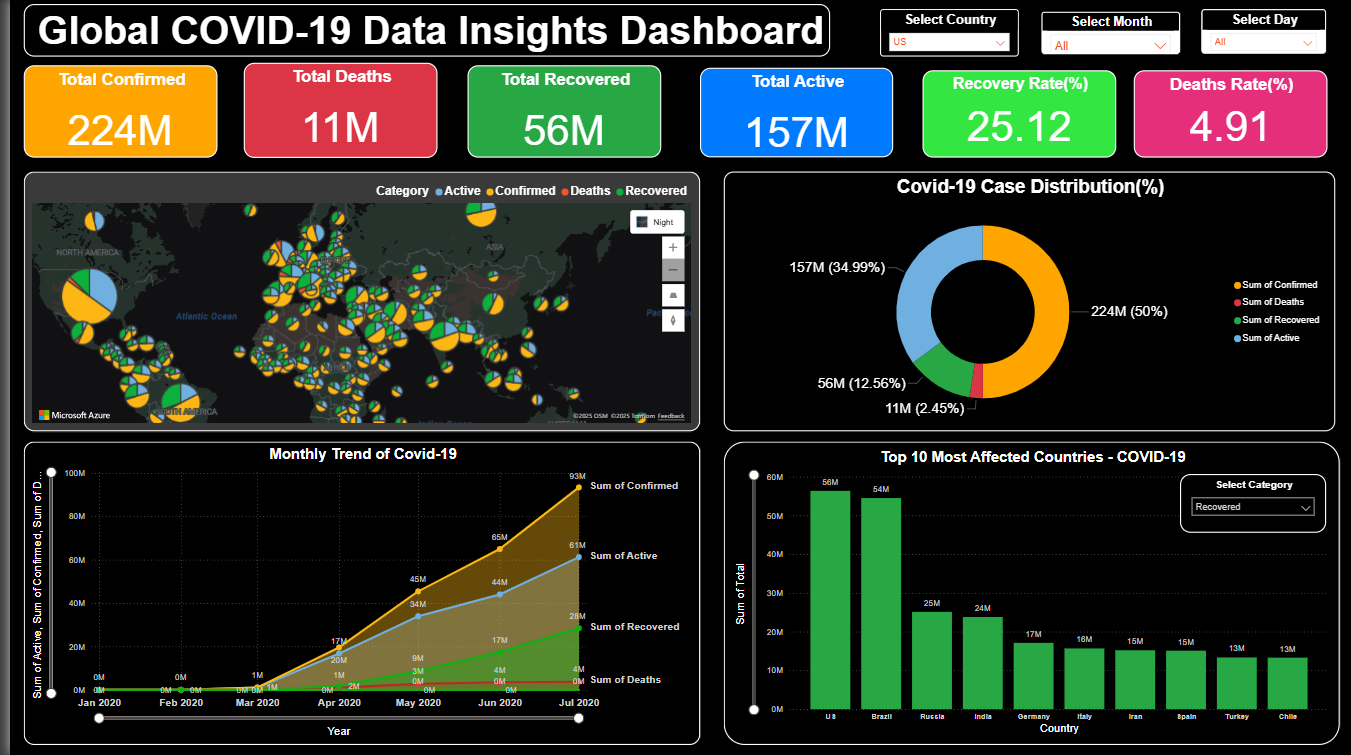

The page's visual inventory and layout, read from the dashboard file:
{"tool":"powerbi","page":{"name":"Page 1","canvas":[1920,1080],"ordinal":0},"visuals":[{"type":"slicer","title":"Select Country","fields":{"Values":["samarth_csv.Country/Region"]},"box":[1242.9,14.3,198.2,67.9],"z":0},{"type":"slicer","title":" Select Month","fields":{"Values":["samarth_csv.MonthNumber"]},"box":[1476.8,14.3,198.2,67.9],"z":1000},{"type":"cardVisual","title":" Total Confirmed","fields":{"Data":["Sum(samarth_csv.Confirmed)"]},"box":[19.6,94.6,276.8,132.1],"z":2000},{"type":"cardVisual","title":"Total Deaths","fields":{"Data":["Sum(samarth_csv.Deaths)"]},"box":[333.9,91.1,276.8,135.7],"z":3000},{"type":"cardVisual","title":"Total Active","fields":{"Data":["Sum(samarth_csv.Active)"]},"box":[985.7,98.2,276,128],"z":4000},{"type":"cardVisual","title":"Total Recovered","fields":{"Data":["Sum(samarth_csv.Recovered)"]},"box":[653.6,94.6,276.8,132.1],"z":5000},{"type":"donutChart","title":"Covid-19 Case Distribution(%)","fields":{"Y":["Sum(samarth_csv.Confirmed)","Sum(samarth_csv.Deaths)","Sum(samarth_csv.Recovered)","Sum(samarth_csv.Total Active)"]},"box":[1019.6,246.4,873.2,371.4],"z":6000},{"type":"slicer","title":" Select Day","fields":{"Values":["samarth_csv.Date.Variation.Date Hierarchy.Day"]},"box":[1719.7,14.3,160.7,67.9],"z":7000},{"type":"card","title":"Recovery Rate(%)","fields":{"Values":["samarth_csv.Recovery Rate (%)"]},"box":[1303.6,101.8,276.8,125],"z":8000},{"type":"card","title":"Deaths Rate(%)","fields":{"Values":["samarth_csv.Deaths Rate (%)"]},"box":[1605.4,101.8,276.8,125],"z":9000},{"type":"columnChart","title":"Top 10 Most Affected Countries - COVID-19","fields":{"Category":["Top10_All_Categories.Country"],"Series":["Top10_All_Categories.Category"],"Y":["Sum(Top10_All_Categories.Total)"]},"box":[1019.6,632.1,880.4,433.9],"z":10000},{"type":"slicer","title":"Select Category","fields":{"Values":["Top10_All_Categories.Category"]},"box":[1671.4,678.6,208.9,83.9],"z":11000},{"type":"lineChart","title":"Monthly Trend of Covid-19","fields":{"Y":["Sum(samarth_csv.Active)","Sum(samarth_csv.Confirmed)","Sum(samarth_csv.Deaths)","Sum(samarth_csv.Recovered)","samarth_csv.Deaths Rate (%)","samarth_csv.Recovery Rate (%)"],"Category":["samarth_csv.Date.Variation.Date Hierarchy.Year","samarth_csv.Date.Variation.Date Hierarchy.Month"]},"box":[19.6,632.1,966.1,433.9],"z":12000},{"type":"azureMap","fields":{"Category":["Covid_Unpivot.Country"],"Size":["Sum(Covid_Unpivot.Total Cases)"],"Series":["Covid_Unpivot.Category"]},"box":[19.6,246.4,966.1,371.4],"z":13000},{"type":"textbox","title":"Global COVID-19 Data Insights Dashboard","box":[19.6,7.1,1151.8,75],"z":14000}]}

Visuals, with their boxes in screenshot pixels (x1, y1, x2, y2), scaled from the page's 1920x1080 canvas onto the 1351x755 screenshot:
"Select Country" slicer: [875,10,1014,57]
" Select Month" slicer: [1039,10,1179,57]
" Total Confirmed" cardVisual: [14,66,209,158]
"Total Deaths" cardVisual: [235,64,430,159]
"Total Active" cardVisual: [694,69,888,158]
"Total Recovered" cardVisual: [460,66,655,158]
"Covid-19 Case Distribution(%)" donutChart: [717,172,1332,432]
" Select Day" slicer: [1210,10,1323,57]
"Recovery Rate(%)" card: [917,71,1112,159]
"Deaths Rate(%)" card: [1130,71,1324,159]
"Top 10 Most Affected Countries - COVID-19" columnChart: [717,442,1337,745]
"Select Category" slicer: [1176,474,1323,533]
"Monthly Trend of Covid-19" lineChart: [14,442,694,745]
azureMap - Covid_Unpivot.Country x Sum(Covid_Unpivot.Total Cases): [14,172,694,432]
"Global COVID-19 Data Insights Dashboard" textbox: [14,5,824,57]
